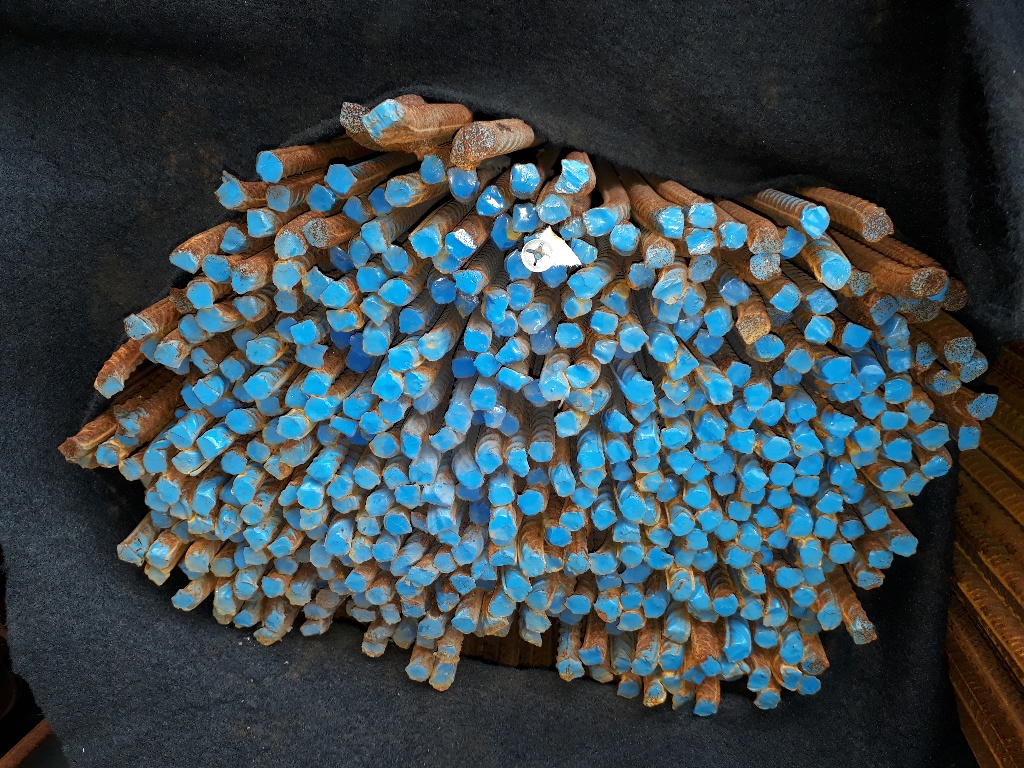dipstick: (451, 125, 490, 169), (365, 100, 402, 137), (522, 238, 554, 273), (555, 161, 588, 193), (862, 208, 893, 242), (748, 225, 783, 254), (448, 166, 478, 198), (216, 177, 245, 210), (696, 414, 728, 443), (803, 206, 830, 240), (410, 229, 441, 258), (371, 373, 402, 402), (302, 267, 328, 301), (910, 269, 944, 295), (445, 229, 476, 257), (538, 196, 570, 223), (646, 239, 675, 268), (256, 153, 284, 183), (234, 297, 269, 321), (510, 163, 537, 194), (492, 215, 519, 246), (967, 393, 998, 420), (769, 284, 801, 310), (611, 224, 639, 253), (821, 260, 849, 289), (202, 254, 232, 281), (369, 433, 401, 458), (685, 229, 717, 254), (418, 334, 446, 362), (326, 165, 355, 192), (570, 273, 600, 299), (585, 209, 613, 236), (628, 378, 656, 405), (518, 490, 546, 517), (824, 356, 851, 384), (305, 185, 334, 211), (179, 317, 208, 343), (687, 257, 716, 283), (739, 315, 768, 341), (275, 232, 305, 257), (247, 339, 277, 364), (660, 207, 684, 238), (920, 426, 951, 450), (196, 309, 228, 332), (303, 219, 330, 246), (490, 517, 517, 544), (272, 264, 300, 290), (476, 187, 502, 215), (688, 203, 716, 229), (947, 337, 975, 363), (806, 317, 834, 343), (341, 102, 366, 131), (361, 221, 385, 251), (721, 281, 751, 305), (422, 484, 454, 506), (361, 299, 388, 325), (721, 222, 747, 249), (859, 366, 885, 393), (869, 296, 896, 322), (190, 349, 218, 374), (292, 320, 320, 345), (628, 263, 656, 288), (621, 327, 649, 352), (932, 369, 960, 394), (421, 155, 445, 184), (357, 267, 386, 291), (782, 229, 806, 258), (841, 324, 871, 347), (808, 290, 838, 313), (484, 292, 506, 323), (499, 368, 530, 390), (887, 318, 909, 349), (188, 282, 214, 308), (168, 423, 194, 449), (246, 210, 271, 237), (115, 419, 140, 446), (457, 460, 482, 487), (513, 204, 538, 231), (572, 240, 599, 265), (556, 323, 583, 348), (591, 312, 618, 337), (835, 376, 862, 401), (327, 310, 359, 331), (692, 588, 713, 620), (785, 404, 817, 425), (885, 379, 913, 403), (943, 281, 967, 309), (429, 429, 458, 452), (380, 282, 409, 305), (456, 273, 485, 296), (884, 440, 913, 463), (914, 343, 937, 372), (660, 429, 693, 449), (386, 180, 412, 205), (221, 228, 246, 254), (704, 310, 729, 336), (709, 450, 735, 475), (220, 451, 247, 475), (653, 335, 677, 362), (505, 576, 532, 600), (233, 264, 256, 292), (446, 404, 469, 432), (589, 552, 617, 575), (762, 437, 790, 460), (563, 296, 592, 318), (753, 337, 782, 359), (793, 434, 822, 456), (653, 279, 683, 300), (265, 185, 290, 210), (279, 440, 304, 465), (399, 309, 424, 334), (506, 285, 531, 310), (124, 315, 150, 339), (219, 357, 245, 381), (362, 331, 388, 355), (619, 497, 645, 521), (757, 401, 783, 425), (384, 246, 407, 273), (506, 450, 529, 477), (295, 346, 326, 366), (545, 260, 567, 288), (828, 415, 856, 437), (960, 360, 988, 382), (388, 348, 413, 372), (657, 300, 682, 324), (568, 365, 593, 389), (594, 600, 619, 624), (780, 641, 804, 666), (197, 434, 220, 460), (396, 485, 422, 508), (860, 394, 886, 417), (305, 461, 332, 483), (707, 382, 734, 404), (322, 285, 350, 306), (695, 334, 723, 355), (726, 548, 754, 569), (232, 325, 256, 349), (475, 354, 499, 378), (604, 294, 628, 318), (566, 551, 590, 575), (732, 430, 756, 454), (881, 467, 905, 491), (343, 196, 366, 221), (170, 289, 193, 314), (305, 399, 330, 422), (497, 341, 522, 364), (635, 434, 660, 457), (226, 410, 252, 432), (302, 374, 328, 396), (142, 451, 168, 473), (408, 462, 434, 484), (509, 252, 531, 278), (592, 340, 618, 362), (787, 349, 813, 371), (850, 271, 872, 297), (331, 247, 352, 274), (646, 547, 673, 568), (277, 416, 305, 436), (384, 514, 412, 534), (192, 494, 215, 518), (173, 451, 196, 475), (432, 279, 456, 302), (434, 250, 458, 273), (519, 309, 542, 333), (464, 330, 488, 353), (531, 331, 554, 355), (556, 412, 579, 436), (619, 545, 643, 568), (740, 598, 764, 621), (633, 473, 662, 492), (856, 570, 885, 589), (171, 251, 196, 273), (355, 468, 380, 490), (543, 379, 568, 401), (672, 357, 697, 379), (606, 441, 631, 463), (669, 451, 694, 473), (907, 402, 932, 424), (817, 492, 843, 513), (855, 428, 881, 449), (95, 377, 122, 397), (578, 450, 605, 470), (722, 661, 749, 681), (913, 301, 940, 321), (579, 469, 607, 488), (891, 537, 919, 556), (643, 595, 666, 618), (671, 576, 694, 599), (814, 517, 837, 540), (343, 397, 367, 419), (678, 315, 700, 339), (682, 291, 704, 315), (819, 605, 841, 629), (865, 507, 889, 529), (889, 349, 913, 371), (346, 351, 371, 372), (118, 542, 143, 563), (287, 585, 312, 606), (378, 401, 403, 422), (566, 594, 591, 615), (695, 443, 724, 461), (58, 439, 84, 459), (369, 188, 389, 214), (492, 316, 518, 336), (607, 412, 633, 432), (402, 433, 421, 460), (776, 568, 803, 587), (158, 480, 180, 503), (437, 641, 460, 663), (559, 217, 582, 239), (728, 363, 750, 386), (247, 441, 271, 462), (234, 480, 255, 504), (529, 441, 553, 462), (663, 382, 687, 403), (714, 595, 738, 616), (788, 516, 812, 537), (731, 407, 755, 428), (922, 458, 950, 476), (880, 412, 908, 430), (524, 381, 544, 406), (489, 486, 514, 506), (351, 242, 370, 268), (451, 575, 477, 594), (724, 643, 750, 662), (263, 461, 290, 479), (684, 491, 711, 509), (196, 382, 218, 404), (96, 445, 118, 467), (469, 503, 491, 525), (479, 451, 501, 473), (522, 556, 544, 578), (437, 591, 460, 612), (671, 514, 694, 535), (854, 625, 877, 646), (771, 465, 794, 486), (154, 345, 178, 365), (120, 460, 144, 480), (573, 487, 597, 507), (684, 463, 708, 483), (698, 510, 722, 530), (728, 501, 752, 521), (172, 591, 197, 610), (394, 624, 413, 649), (356, 515, 381, 534), (384, 469, 409, 488), (527, 468, 552, 487), (484, 618, 509, 637), (559, 660, 584, 679), (829, 544, 854, 563), (417, 618, 443, 636), (659, 399, 685, 417), (489, 598, 515, 616), (797, 457, 823, 475), (631, 457, 660, 473), (884, 493, 913, 509), (274, 292, 296, 313), (361, 411, 382, 433), (366, 495, 388, 516), (746, 386, 767, 408), (453, 544, 476, 564), (414, 393, 437, 413), (456, 296, 476, 319), (471, 389, 494, 409), (569, 390, 592, 410), (780, 669, 800, 692), (737, 531, 760, 551), (714, 475, 737, 495), (959, 426, 979, 449), (489, 549, 516, 566), (274, 318, 293, 342), (326, 535, 350, 554), (526, 613, 550, 632), (560, 512, 584, 531), (694, 552, 718, 571), (840, 520, 864, 539), (256, 397, 281, 415), (327, 479, 352, 497), (409, 567, 434, 585), (592, 510, 617, 528), (658, 478, 676, 503), (659, 653, 684, 671), (756, 508, 781, 526), (764, 529, 789, 547), (332, 497, 360, 513), (455, 484, 481, 501), (631, 404, 657, 421), (803, 657, 829, 674), (262, 577, 283, 598), (796, 476, 817, 497), (906, 474, 927, 495), (247, 377, 269, 397), (311, 545, 331, 567), (453, 357, 475, 377), (801, 547, 823, 567), (716, 521, 738, 541), (316, 427, 339, 446), (299, 488, 322, 507), (763, 607, 786, 626), (332, 417, 356, 435), (254, 630, 281, 646), (244, 531, 268, 549), (399, 544, 423, 562), (472, 561, 496, 579), (687, 388, 705, 412), (686, 531, 710, 549), (852, 451, 879, 467), (647, 529, 672, 546), (620, 615, 645, 632), (241, 505, 262, 525), (379, 604, 400, 624), (527, 591, 548, 611), (613, 527, 641, 542), (675, 548, 696, 568), (745, 573, 765, 594), (771, 487, 792, 507), (429, 672, 451, 691), (434, 554, 456, 573), (403, 374, 422, 396), (549, 526, 571, 545), (745, 471, 767, 490), (207, 399, 233, 415), (304, 605, 330, 621), (644, 500, 660, 526), (406, 664, 429, 682), (452, 616, 475, 634), (793, 588, 816, 606), (263, 419, 280, 443), (244, 548, 268, 565), (372, 543, 396, 560), (832, 468, 856, 485), (621, 568, 650, 582), (775, 369, 802, 384), (299, 509, 319, 529), (351, 544, 371, 564), (429, 517, 454, 533), (211, 558, 232, 577), (590, 394, 609, 415), (555, 476, 574, 497), (748, 672, 769, 691), (216, 519, 238, 537), (316, 591, 339, 608), (274, 558, 297, 575), (411, 511, 428, 534), (770, 310, 793, 327), (643, 688, 666, 705), (869, 551, 892, 568), (187, 519, 213, 534), (366, 626, 392, 641), (580, 649, 604, 665), (694, 700, 718, 716), (172, 500, 192, 519), (346, 572, 366, 591), (543, 553, 563, 572), (622, 592, 641, 612), (286, 389, 307, 407), (501, 416, 519, 437), (591, 666, 612, 684), (799, 619, 820, 637), (804, 568, 825, 586), (754, 693, 779, 708), (187, 554, 209, 571), (221, 485, 238, 507), (396, 582, 418, 599), (609, 464, 632, 480), (665, 628, 688, 644), (391, 556, 410, 575), (702, 657, 721, 676), (801, 675, 820, 694), (237, 582, 257, 600), (279, 485, 297, 505), (741, 488, 765, 503), (368, 587, 389, 604), (632, 658, 653, 675), (618, 682, 639, 699), (284, 508, 300, 530), (549, 592, 565, 614), (401, 604, 426, 618), (790, 606, 815, 620), (485, 407, 503, 426), (183, 388, 200, 408), (146, 568, 166, 585), (266, 612, 283, 632), (611, 658, 631, 675), (317, 564, 338, 580), (521, 632, 543, 647), (148, 493, 167, 510), (440, 529, 459, 546), (756, 549, 775, 566), (148, 551, 168, 567), (215, 596, 235, 612), (756, 631, 776, 647), (140, 341, 155, 362), (363, 641, 384, 656), (352, 608, 376, 621), (826, 438, 844, 455), (172, 524, 188, 543), (662, 677, 681, 693), (599, 575, 619, 590), (306, 527, 327, 541), (328, 574, 344, 592), (672, 694, 690, 710), (560, 612, 582, 625), (152, 512, 171, 527), (234, 611, 251, 627), (684, 668, 703, 682), (604, 620, 620, 636), (301, 624, 322, 636), (416, 636, 434, 650), (354, 594, 371, 608), (213, 613, 232, 624), (234, 550, 245, 569), (472, 410, 485, 424)
